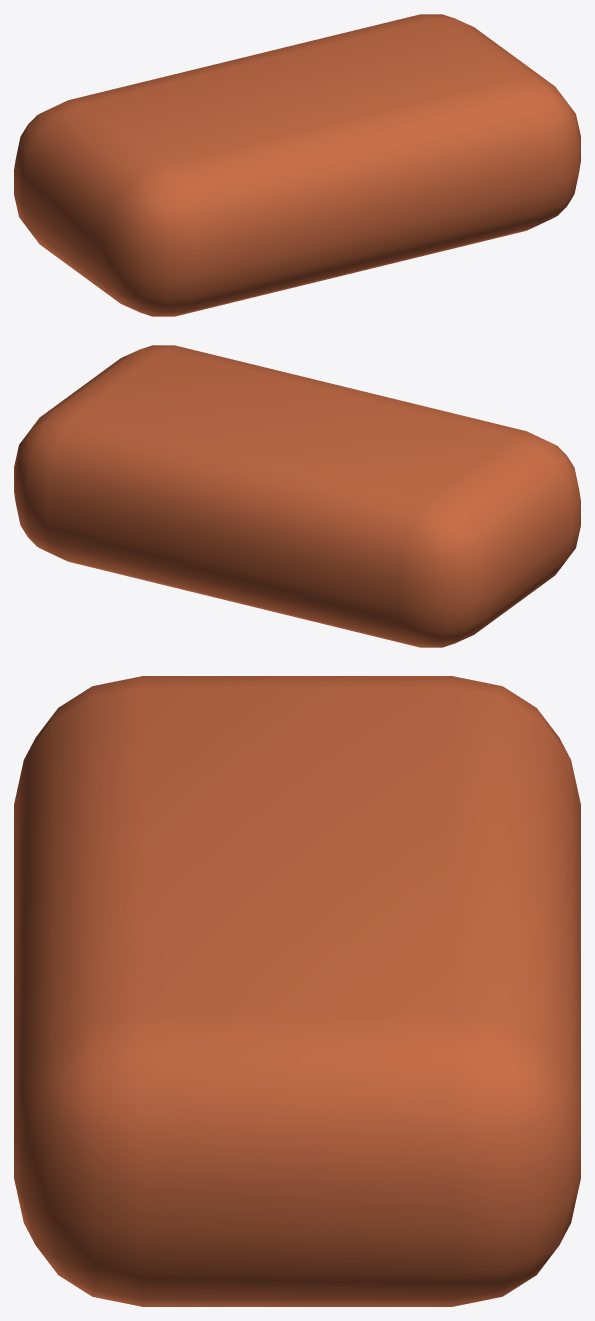
Rendered from induction_heater_trigger.glb.
3 views of the same model, one above another, from view 1: azimuth 30°, elevation 25°; view 2: azimuth 150°, elevation 25°; view 3: azimuth 270°, elevation 25° (orthographic). The views are drawn at different scales.
Parts seen in each view (by area): view 1: induction_heater_trigger; view 2: induction_heater_trigger; view 3: induction_heater_trigger.
Part boxes in pixels (x1=…): induction_heater_trigger: x1=14, y1=14, x2=580, y2=316; induction_heater_trigger: x1=14, y1=345, x2=580, y2=647; induction_heater_trigger: x1=14, y1=676, x2=580, y2=1306.
Bounding box in the file's own units: 0.04 × 0.012 × 0.022.
